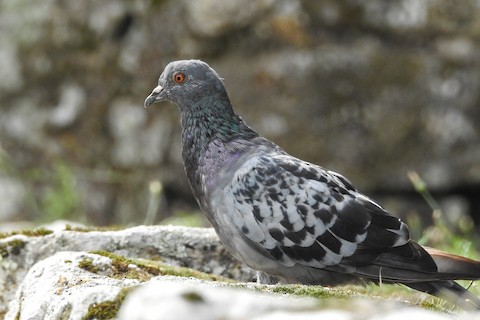pigeon: (143, 56, 466, 291)
